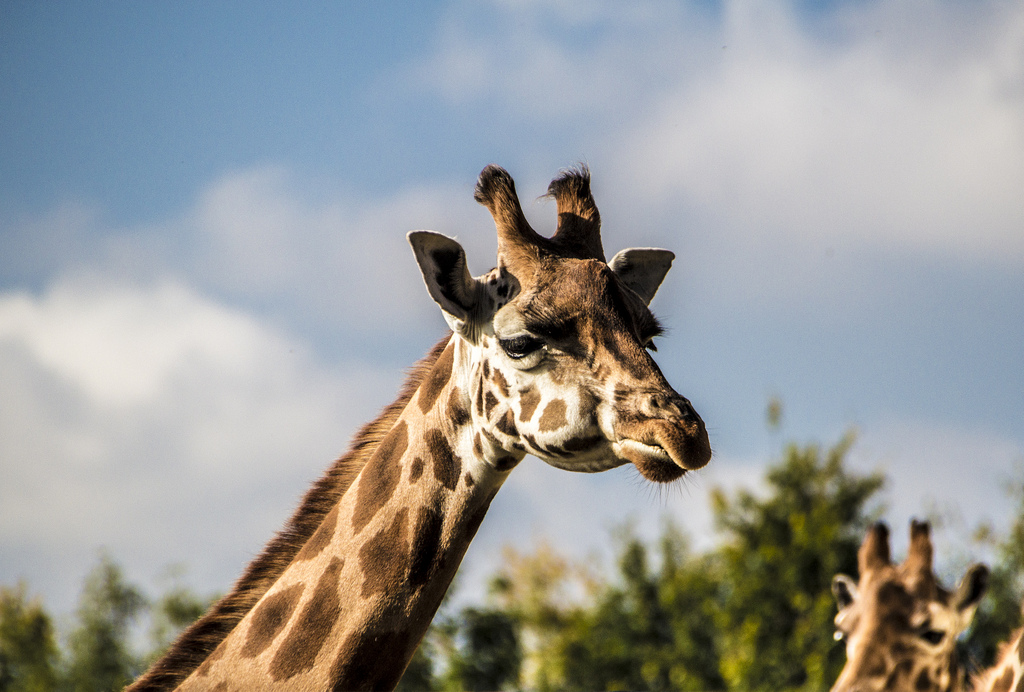giraffe: (143, 172, 755, 674)
